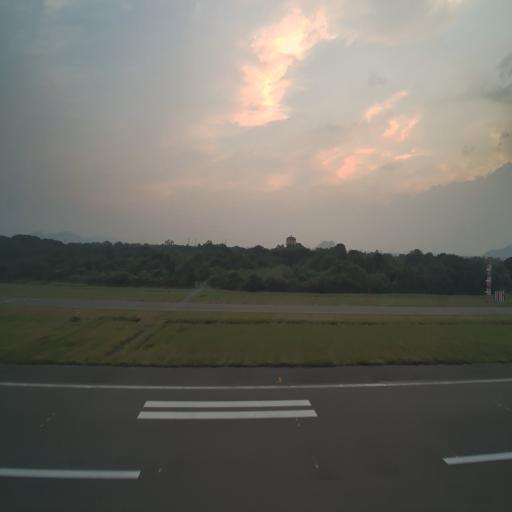on: (278, 376, 282, 382)
